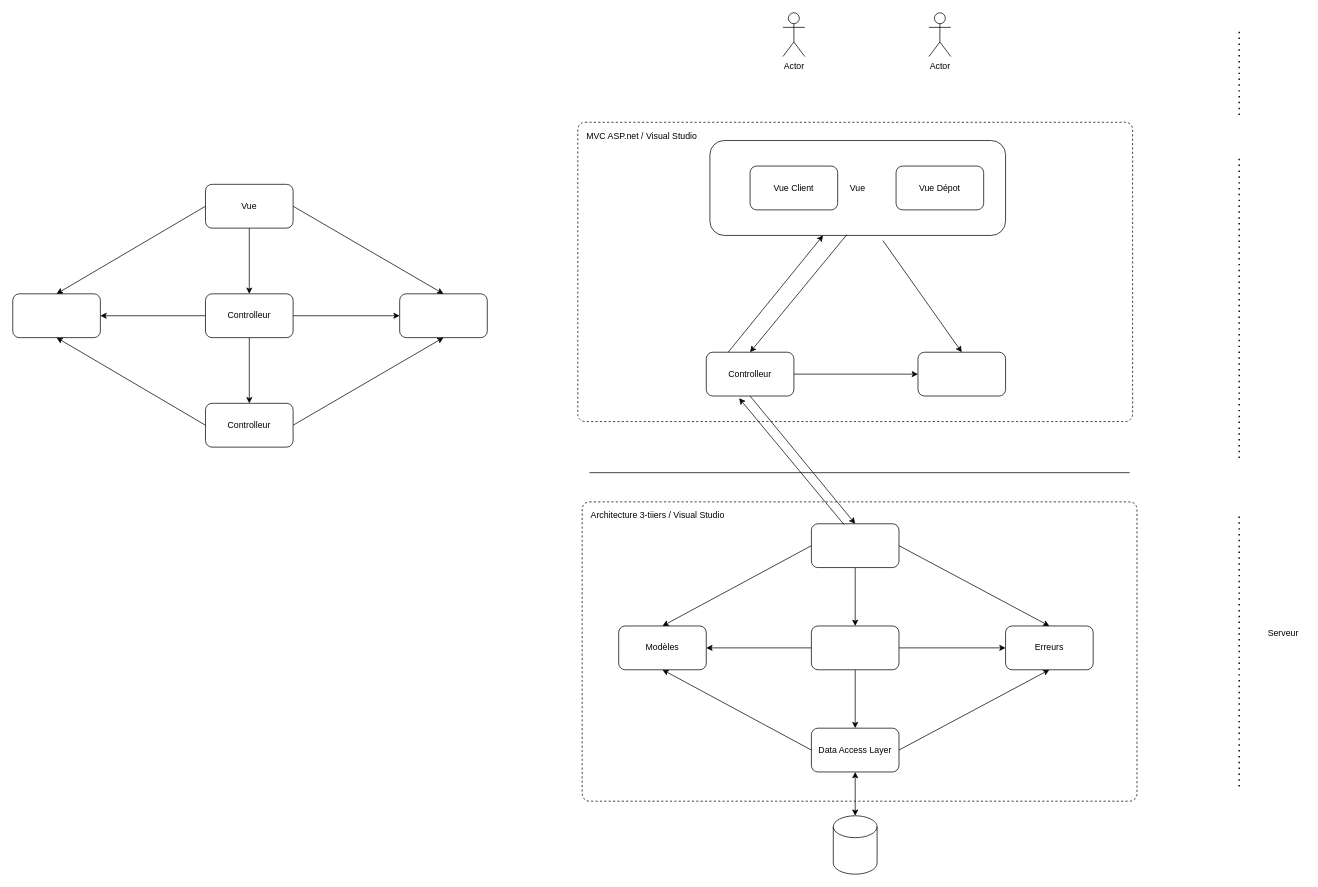
The diagram is 1318 pixels wide and 887 high, and some of its shapes have lost their labels. The shapes that lost their labels are listed below. From the top down, each one's centre as x and y in pixels, then its label:
At (961,373): "Modèle".
At (855,545): "WEB API".
At (855,647): "Business Layer".
At (855,844): "DB".
